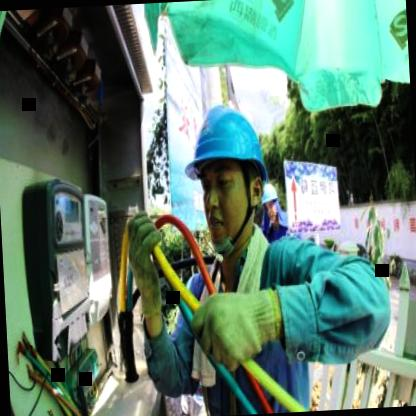helmet: (176, 86, 274, 254)
